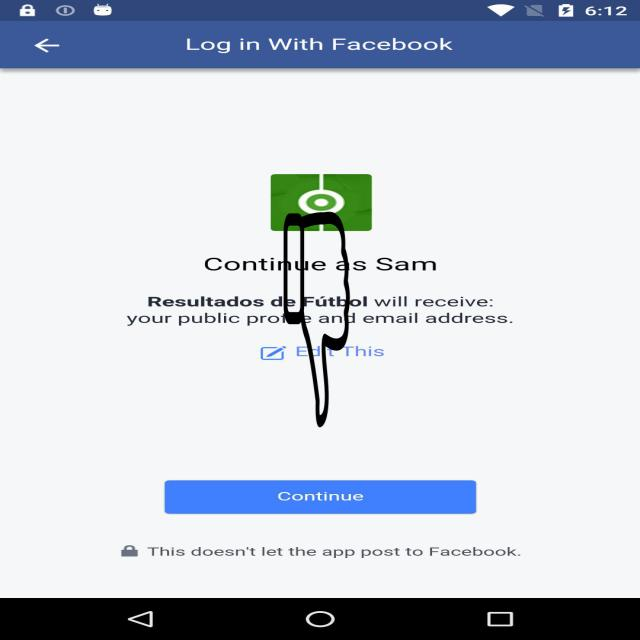obstruction: (282, 212, 350, 427)
